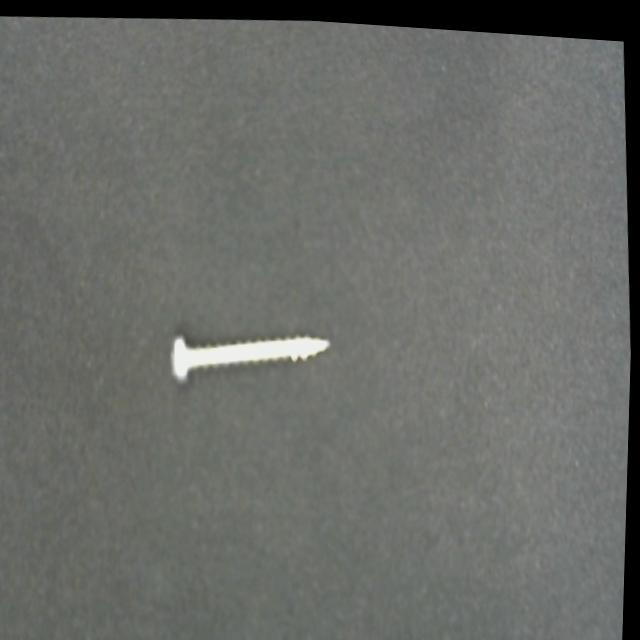SheetMetalScrew: (171, 317, 336, 388)
